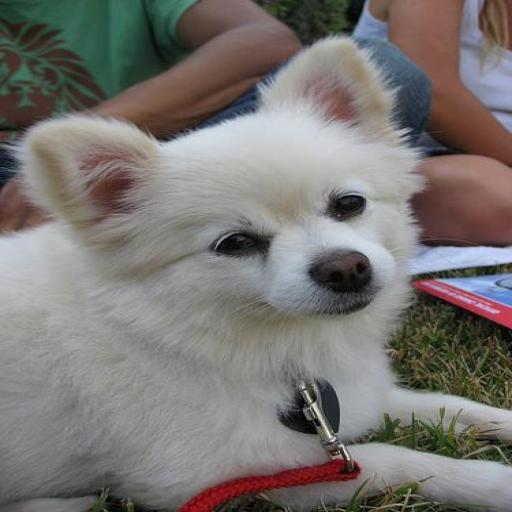dog_face: (38, 54, 429, 330)
